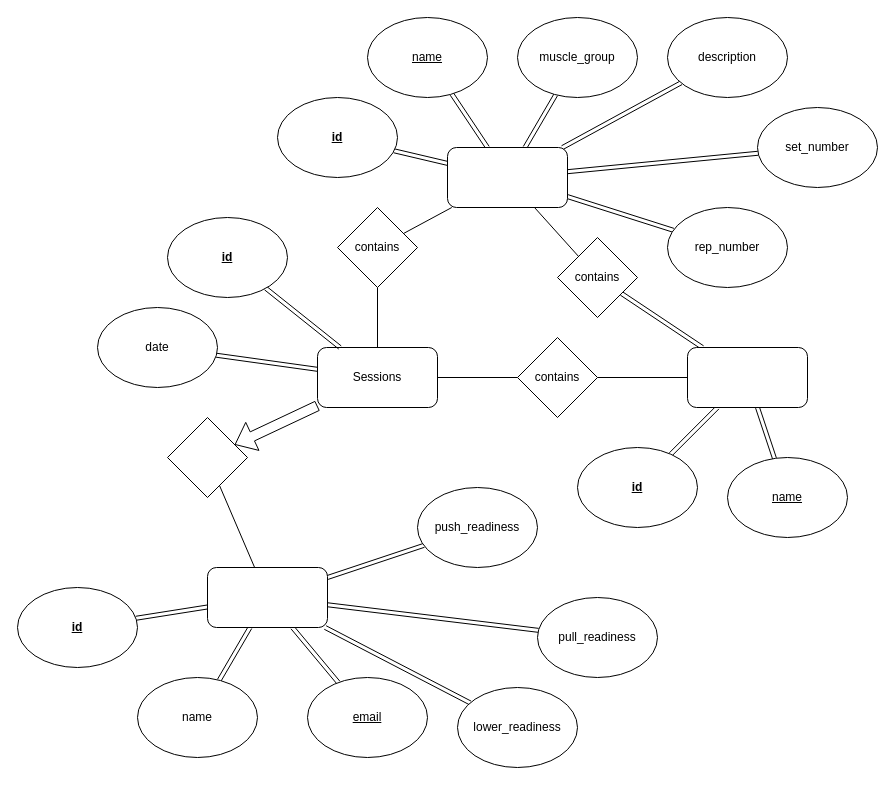
Some shapes in this 895 by 785 pixel diagram are drawn without their labels. Each missing label, with the centre of its shape:
"Exercises" belongs at pixel 507 177.
"performs" belongs at pixel 207 457.
"Users" belongs at pixel 267 597.
"Workouts" belongs at pixel 747 377.
